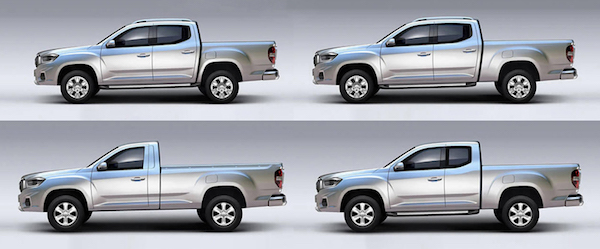pickup: (310, 139, 586, 236), (16, 139, 289, 236), (307, 16, 579, 105), (24, 16, 282, 107)
